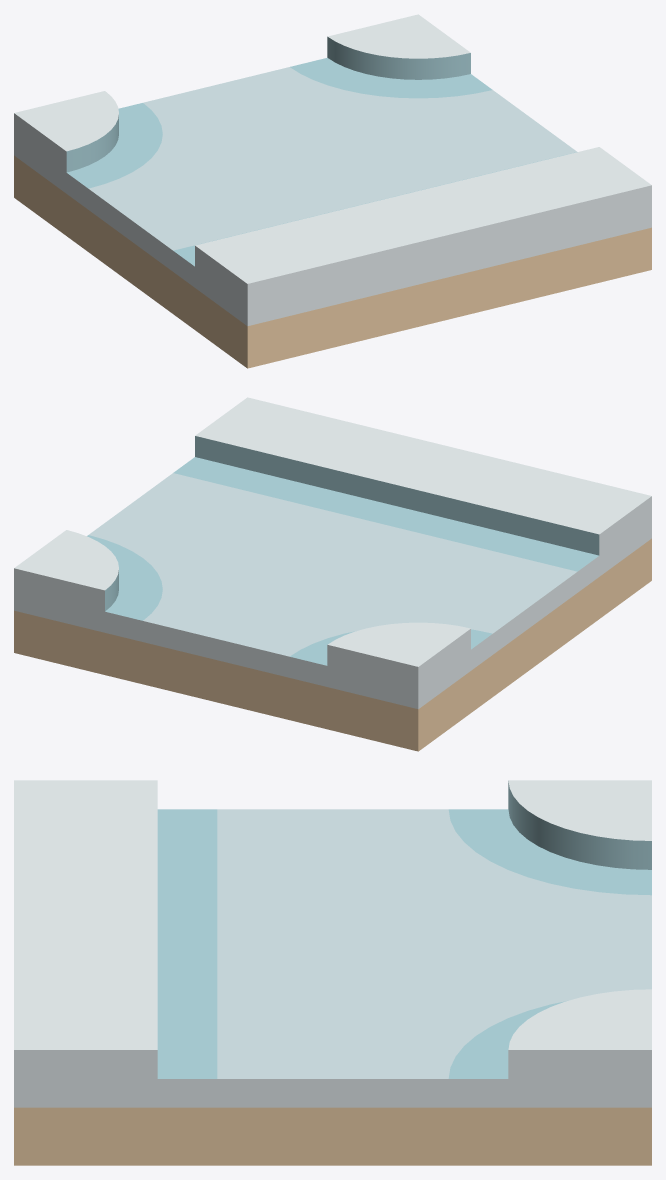
Rendered from snow_tile_split.glb.
3 renders of one model, top to bottom at view 1: azimuth 30°, elevation 25°; view 2: azimuth 150°, elevation 25°; view 3: azimuth 270°, elevation 25°, orthographic. The views are drawn at different scales.
Visible parts, largest first — view 1: snow_tile_split; view 2: snow_tile_split; view 3: snow_tile_split.
Part boxes in pixels (x1,y1,x2,y2): snow_tile_split: (14, 14, 651, 368); snow_tile_split: (14, 397, 651, 751); snow_tile_split: (14, 780, 651, 1165).
Size of the model in its own units: 1 by 0.2 by 1.
